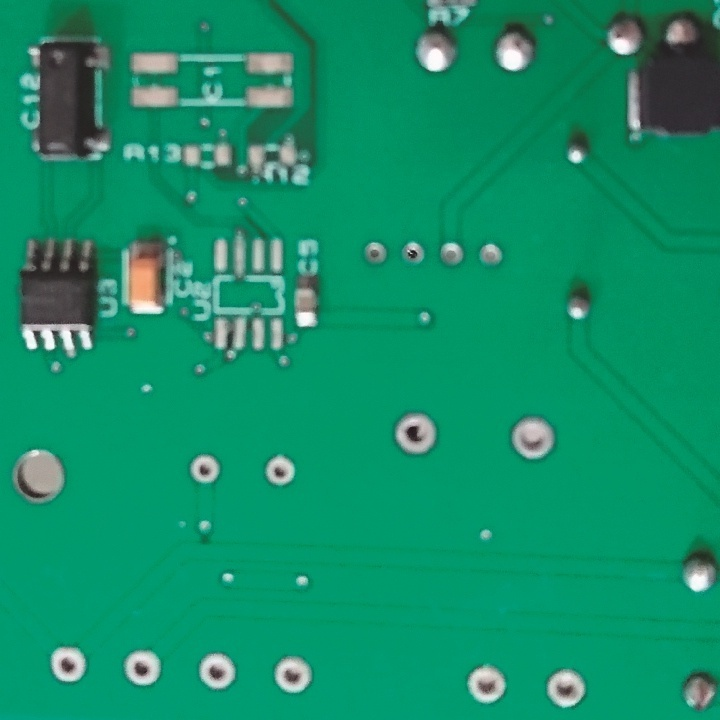F: (390, 406, 441, 464), (507, 407, 557, 462), (459, 660, 510, 706), (269, 651, 316, 700), (544, 666, 594, 712), (195, 646, 241, 694), (47, 640, 91, 690), (121, 643, 167, 689), (184, 449, 224, 487), (434, 233, 472, 270), (261, 453, 297, 490), (357, 235, 394, 270), (476, 239, 506, 272), (396, 238, 427, 269)
